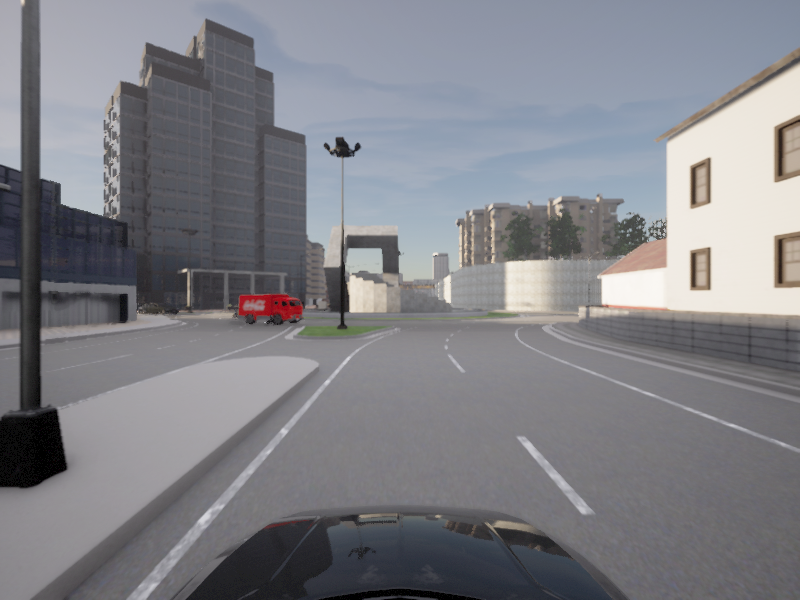vehicle: (236, 293, 308, 326), (229, 304, 244, 319)
